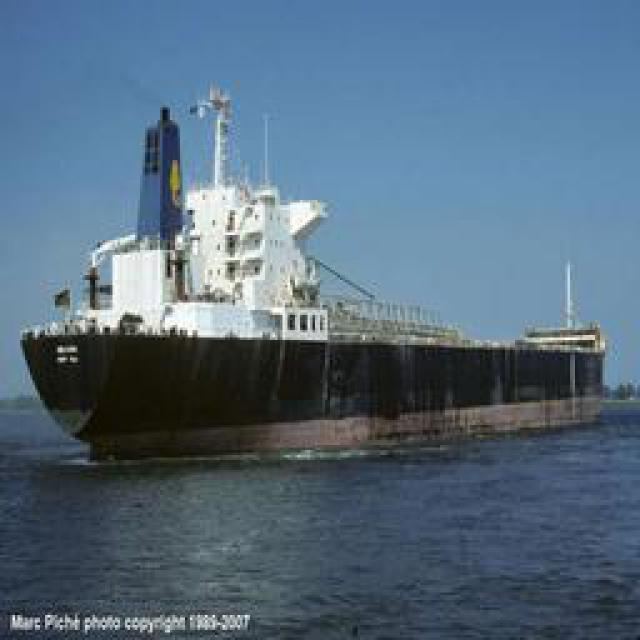Ship: (29, 80, 474, 458)
